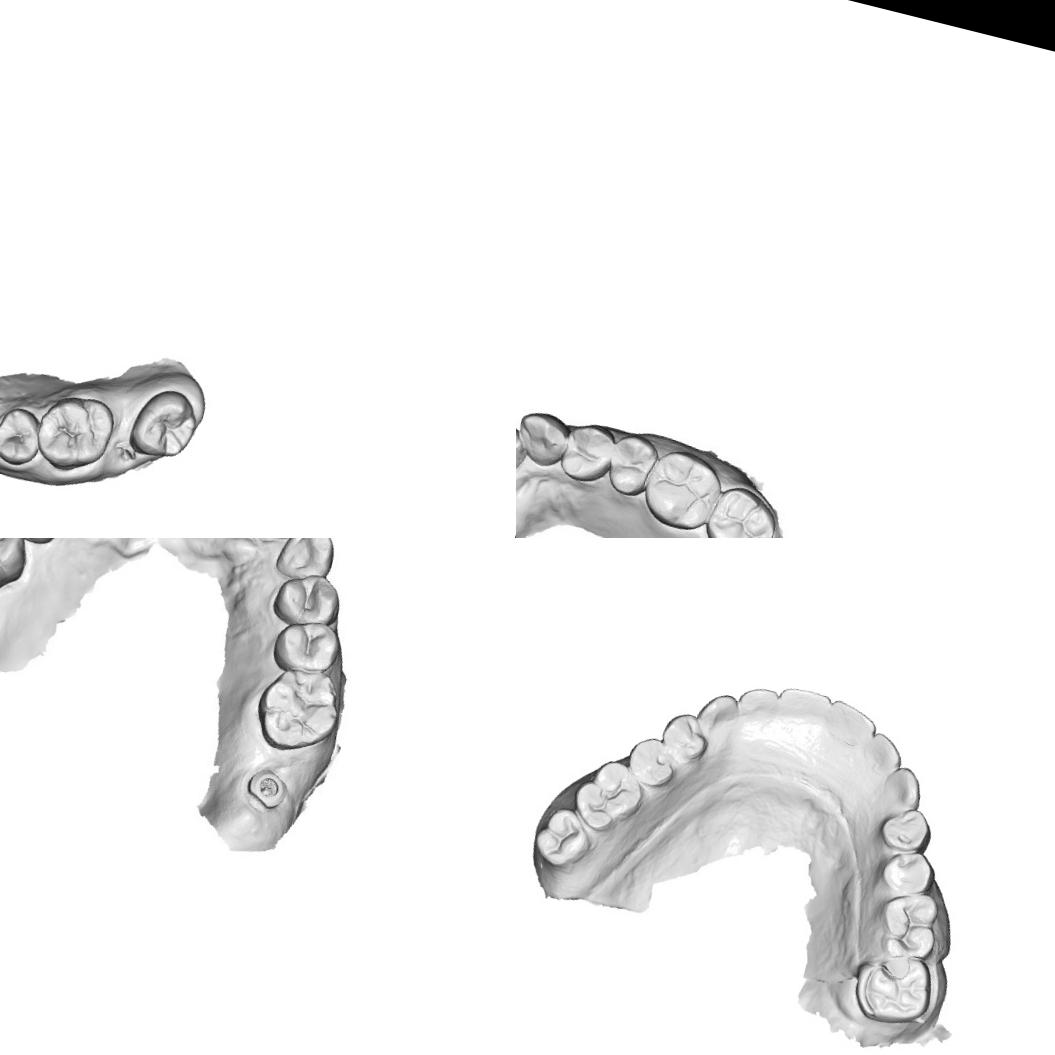canine: (516, 402, 575, 472), (270, 538, 343, 588), (690, 685, 744, 742), (876, 760, 928, 814)
implant: (241, 761, 293, 813)
incisor: (768, 680, 836, 740), (820, 694, 883, 752), (859, 728, 909, 779), (732, 680, 781, 730), (516, 412, 531, 479)
molar: (246, 657, 349, 763), (634, 443, 730, 537), (845, 942, 939, 1034), (29, 387, 119, 479), (565, 750, 652, 841), (124, 381, 204, 465), (872, 884, 946, 965), (528, 800, 600, 876), (697, 480, 784, 538), (0, 538, 38, 593)
premolar: (264, 610, 346, 682), (266, 563, 346, 634), (599, 426, 668, 504), (548, 420, 624, 490), (620, 730, 682, 793), (876, 843, 941, 900), (874, 799, 937, 857), (654, 706, 714, 765), (0, 401, 47, 469)
